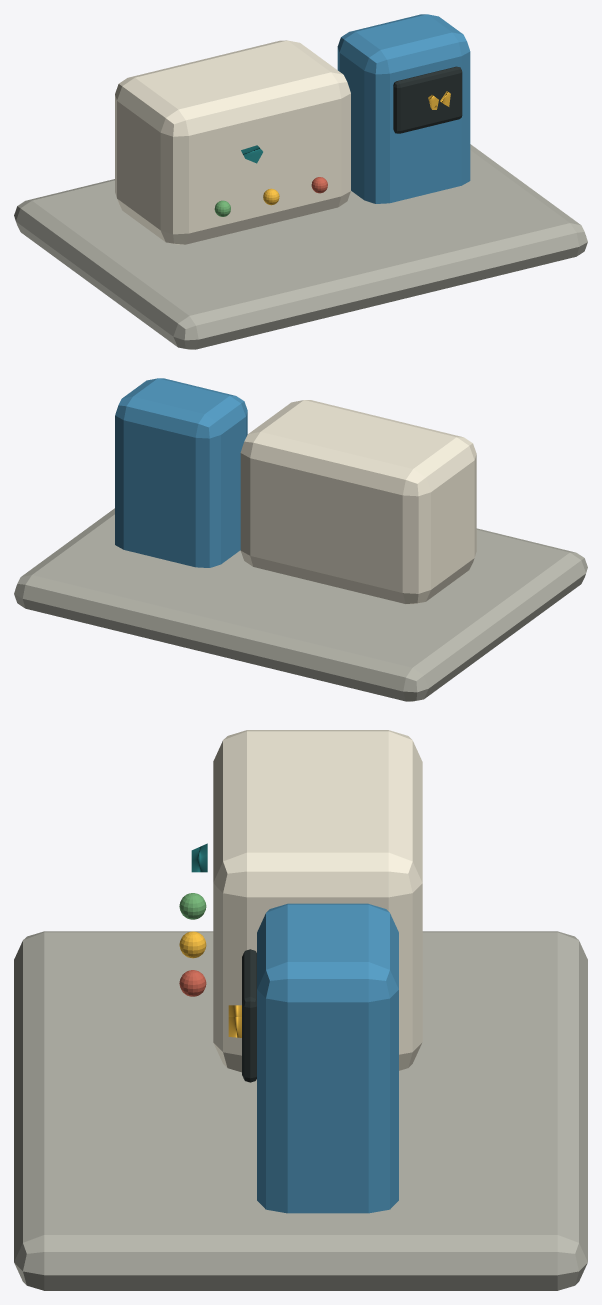
The model's file is fibre-kit-v2.glb.
3 views of the same model, one above another, from view 1: azimuth 30°, elevation 25°; view 2: azimuth 150°, elevation 25°; view 3: azimuth 270°, elevation 25° (orthographic). The views are drawn at different scales.
Parts seen in each view (by area): view 1: FIBRE ONT DIAGNOSTIC KIT · Chalk; view 2: FIBRE ONT DIAGNOSTIC KIT · Chalk; view 3: FIBRE ONT DIAGNOSTIC KIT · Chalk.
Boxes of the visible parts, x1=… form: FIBRE ONT DIAGNOSTIC KIT · Chalk: x1=14, y1=14, x2=587, y2=349; FIBRE ONT DIAGNOSTIC KIT · Chalk: x1=14, y1=378, x2=587, y2=701; FIBRE ONT DIAGNOSTIC KIT · Chalk: x1=14, y1=730, x2=587, y2=1290.
Bounding box in the file's own units: 2.3 × 0.97 × 1.7.
Materials: 1 (1 with a texture image).
